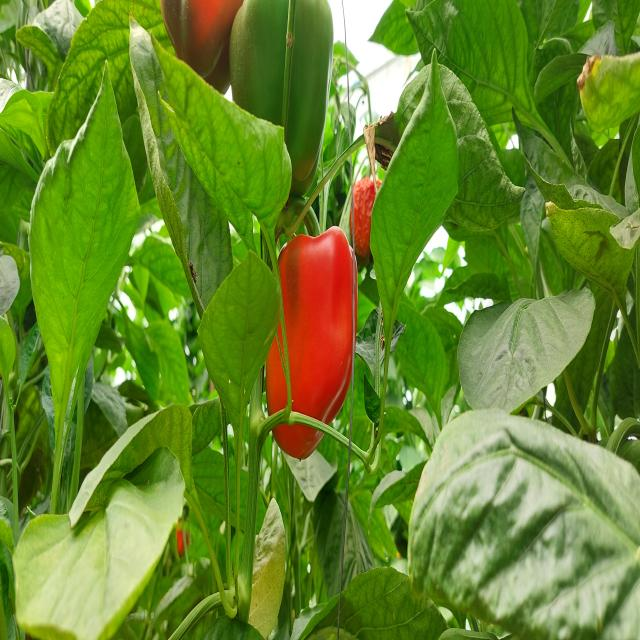BrownishRed--Can-be-Harvested: (237, 0, 333, 184)
Red-Ready-to-Harvest: (260, 229, 362, 459), (164, 3, 232, 104)
